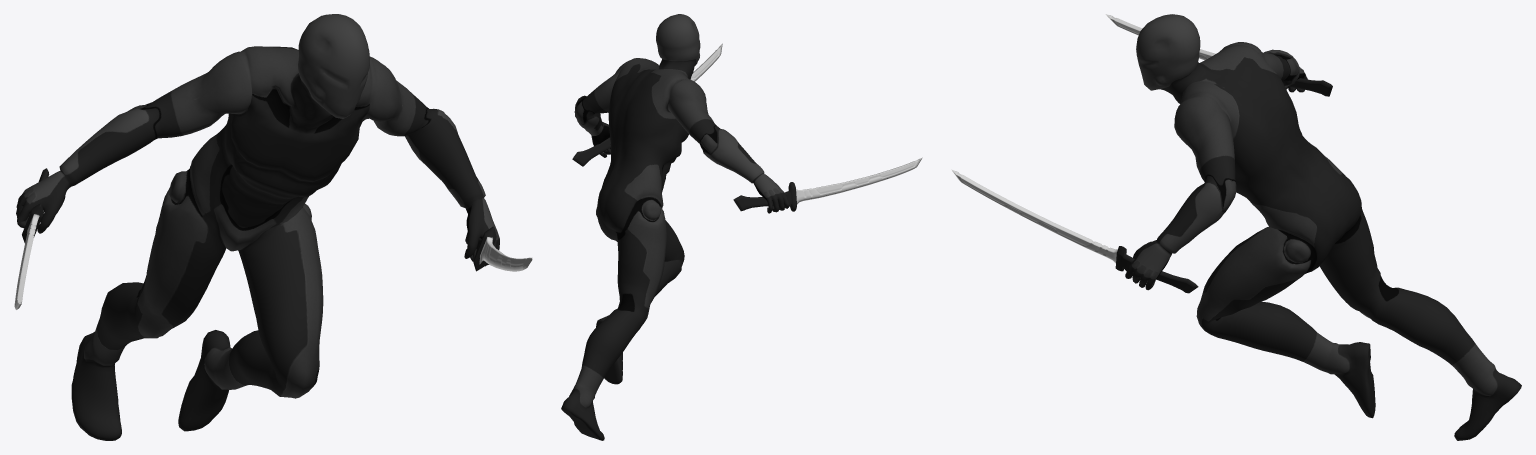
3 renders of one model, left to right at view 1: azimuth 30°, elevation 25°; view 2: azimuth 150°, elevation 25°; view 3: azimuth 270°, elevation 25°, orthographic. The views are drawn at different scales.
Parts seen in each view (by area): view 1: Cyborg_Ninja_Killer, Sword_l, Sword_l001; view 2: Cyborg_Ninja_Killer, Sword_l001, Sword_l; view 3: Cyborg_Ninja_Killer, Sword_l, Sword_l001.
Boxes of the visible parts, x1,y1,x2,y2 form: Cyborg_Ninja_Killer: [16, 14, 499, 440]; Sword_l: [465, 226, 532, 271]; Sword_l001: [14, 168, 49, 309]; Cyborg_Ninja_Killer: [561, 14, 789, 440]; Sword_l001: [733, 157, 922, 211]; Sword_l: [572, 43, 722, 166]; Cyborg_Ninja_Killer: [1125, 14, 1521, 440]; Sword_l: [951, 169, 1198, 293]; Sword_l001: [1105, 14, 1332, 96].
Bounding box in the file's own units: 155 × 157 × 184.
Materials: 2 (2 with a texture image).
